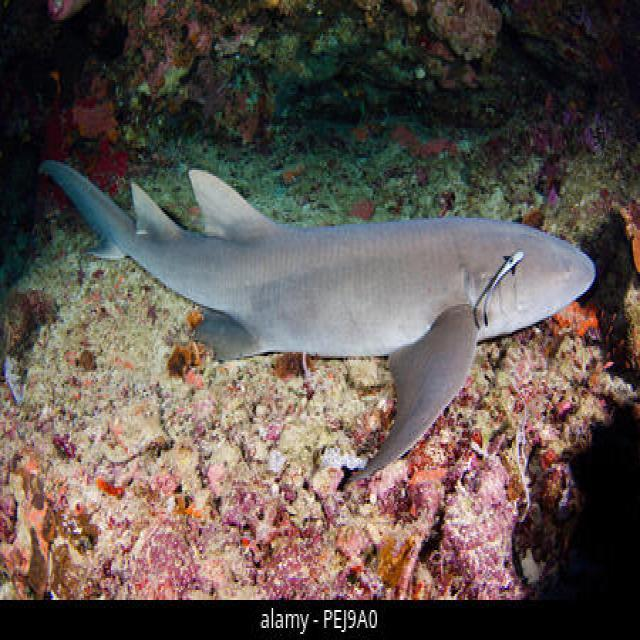Shark: (36, 106, 604, 494)
